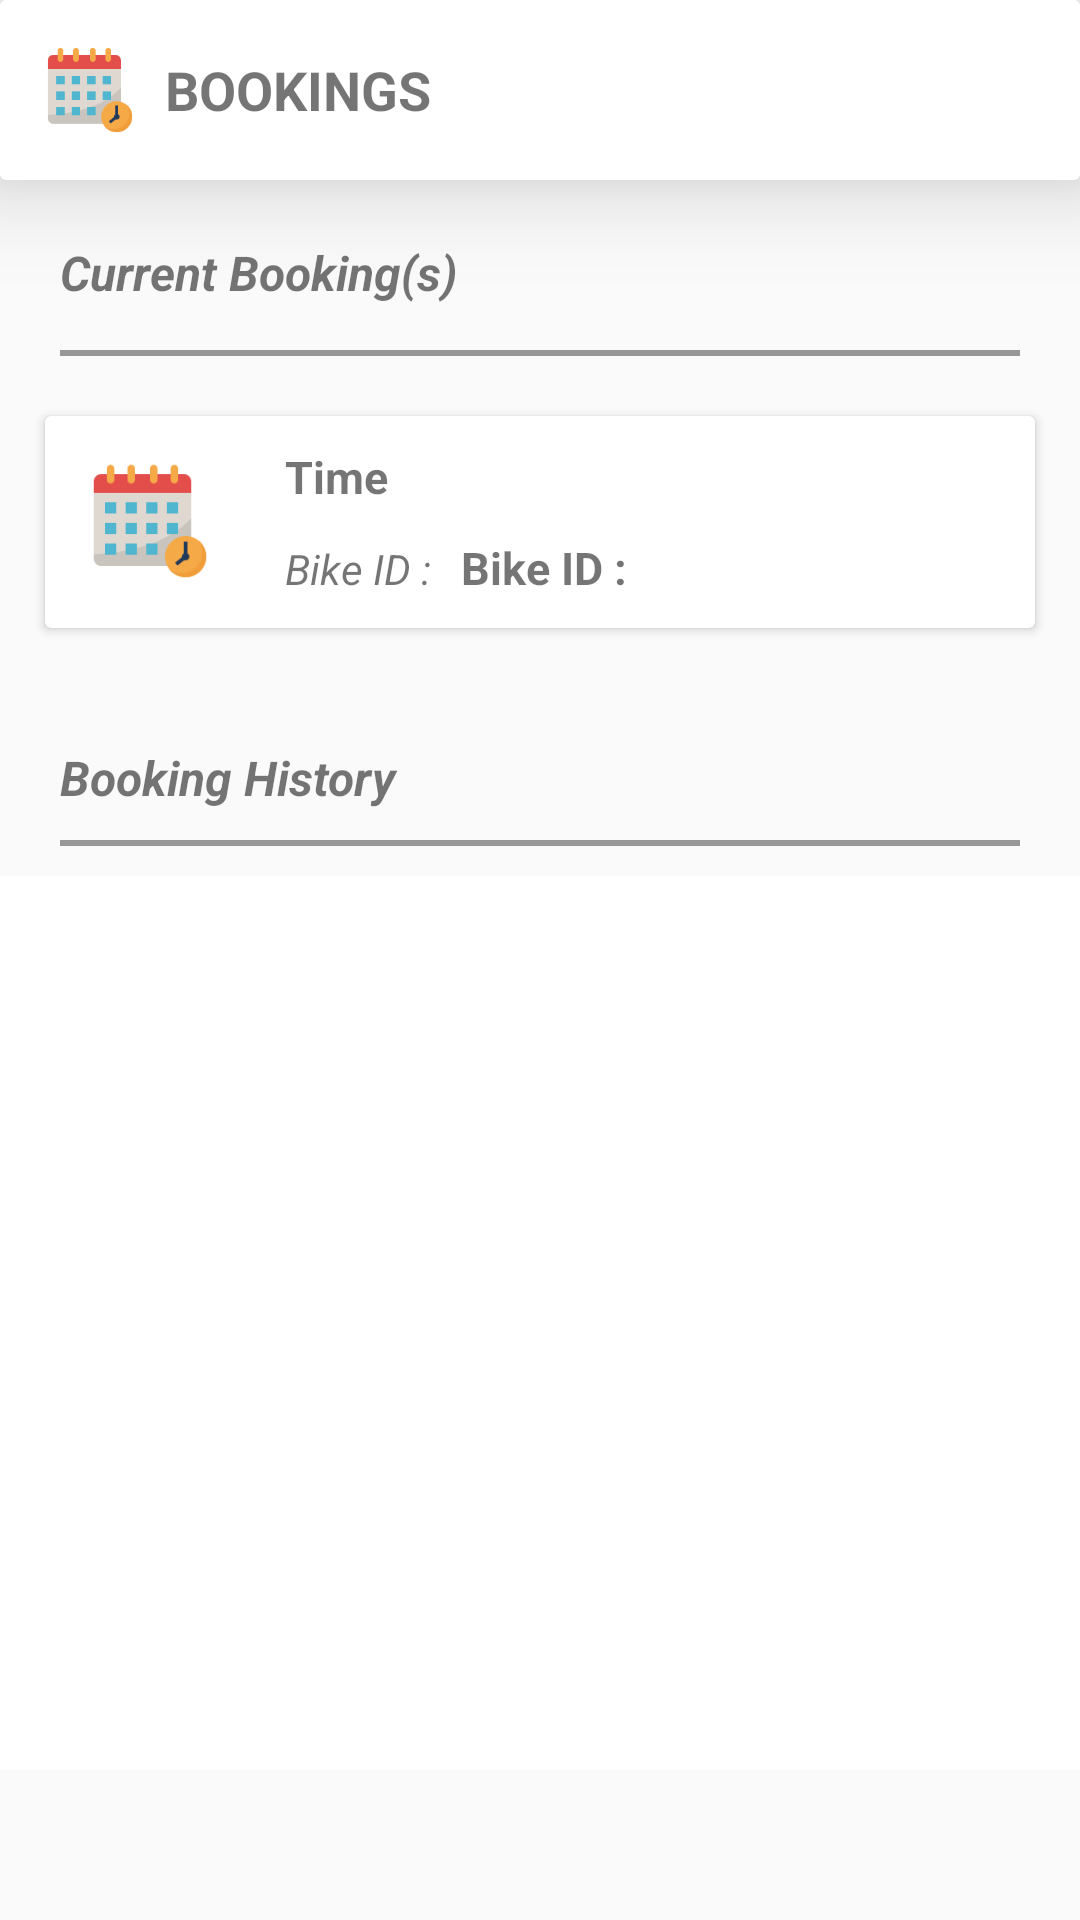

Screen size 1080 x 1920. Icon name, then its center in pixels as (x,y):
calendar: (90,90), (150,521)
